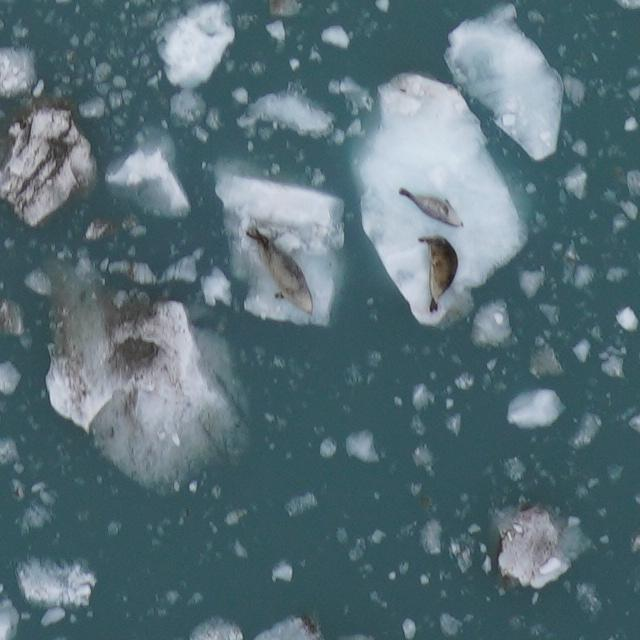seal: (241, 222, 317, 321), (413, 230, 461, 316), (396, 185, 469, 231)
